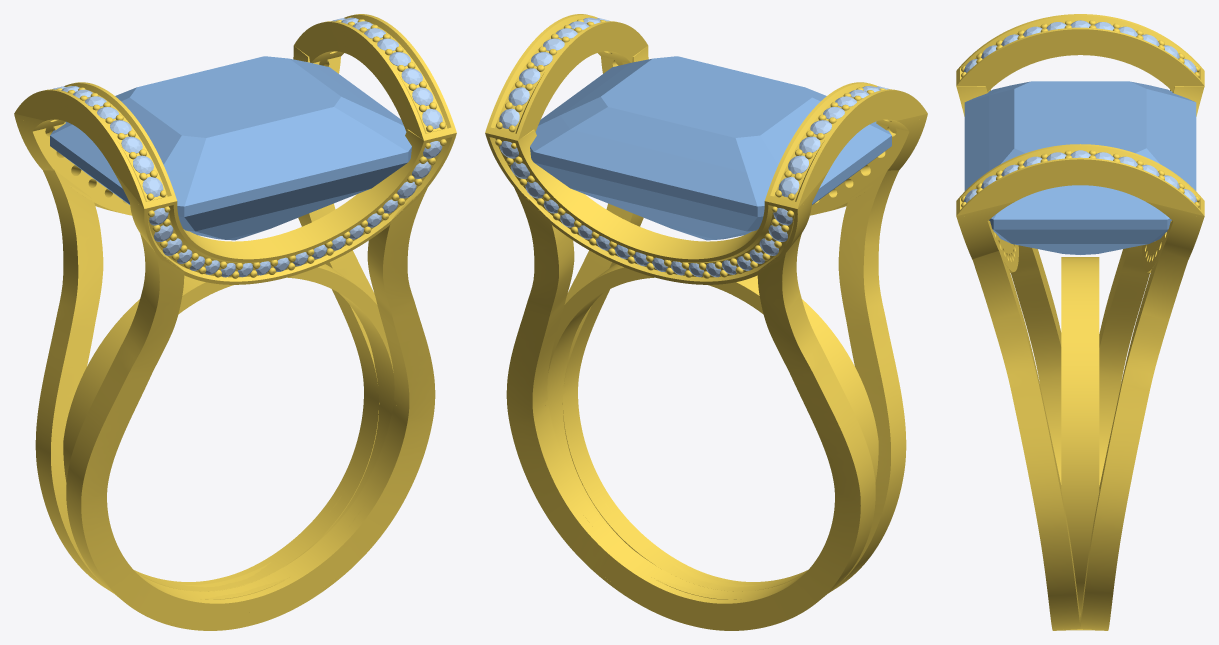
3 views of the same model, side by side, from view 1: azimuth 30°, elevation 25°; view 2: azimuth 150°, elevation 25°; view 3: azimuth 270°, elevation 25° (orthographic). The views are drawn at different scales.
Parts seen in each view (by area): view 1: LRGAD7502.3dm, Gem_Emerald; view 2: LRGAD7502.3dm, Gem_Emerald; view 3: LRGAD7502.3dm, Gem_Emerald.
Part boxes in pixels (bbox=[...]): LRGAD7502.3dm: bbox=[14, 14, 456, 630]; Gem_Emerald: bbox=[50, 56, 411, 240]; LRGAD7502.3dm: bbox=[485, 14, 927, 630]; Gem_Emerald: bbox=[530, 56, 891, 240]; LRGAD7502.3dm: bbox=[956, 14, 1204, 630]; Gem_Emerald: bbox=[964, 81, 1196, 254].
Size of the model in its own units: 2.1 by 3.13 by 1.34.
